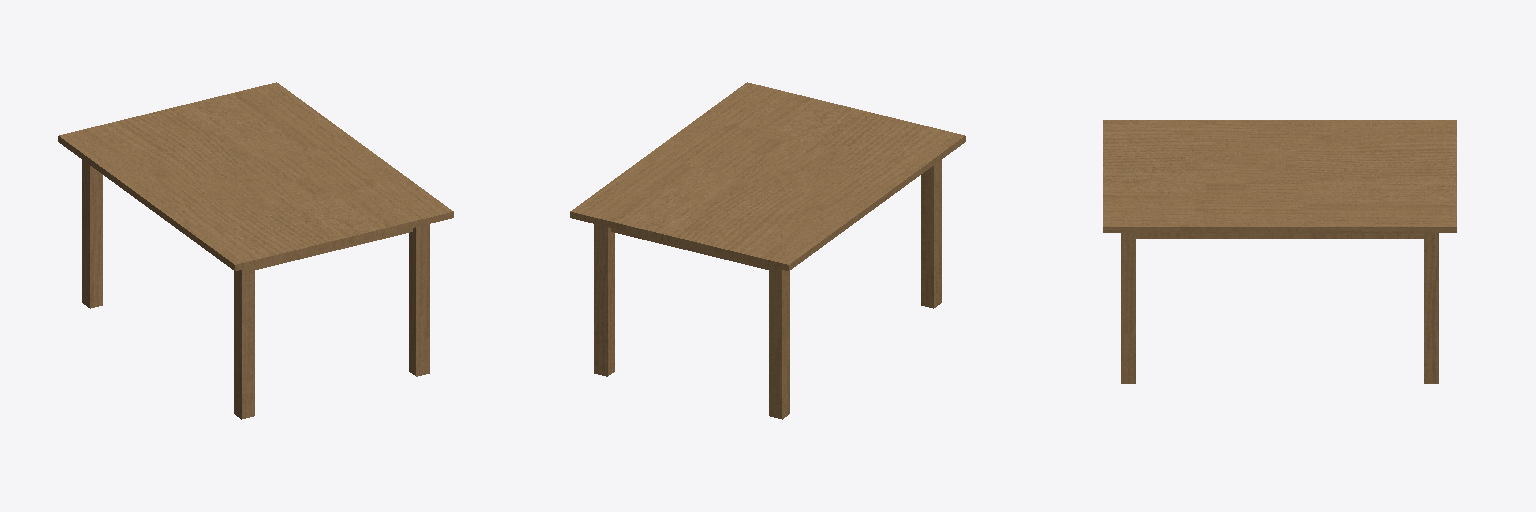
3 views of the same model, side by side, from view 1: azimuth 30°, elevation 25°; view 2: azimuth 150°, elevation 25°; view 3: azimuth 270°, elevation 25° (orthographic).
Parts seen in each view (by area): view 1: Default; view 2: Default; view 3: Default.
Part boxes in pixels (x1,y1,x2,y2): Default: (58,82,453,419); Default: (570,82,965,419); Default: (1103,120,1456,383).
Size of the model in its own units: 1 by 0.72 by 1.4.
Materials: 1 (1 with a texture image).